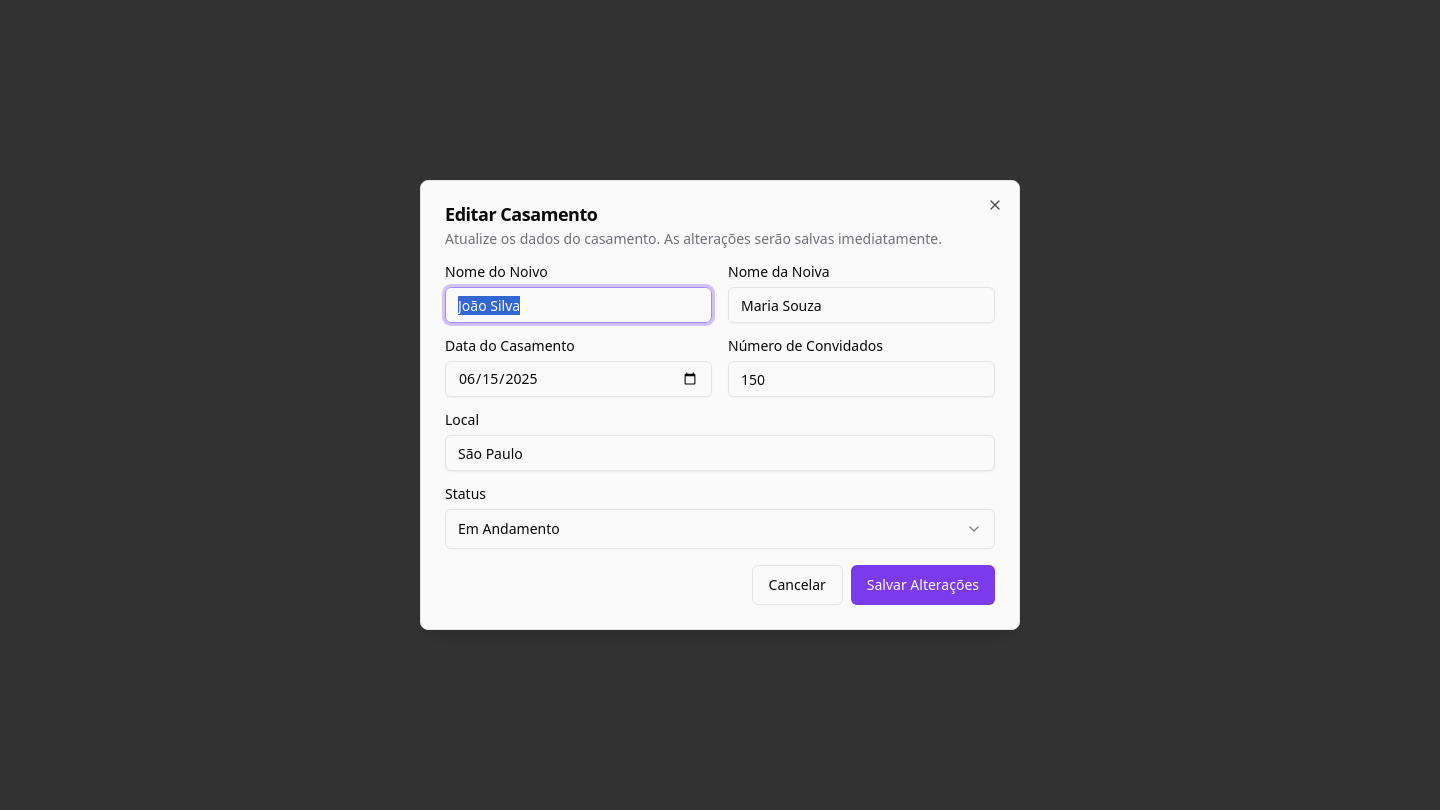
it: EditWeddingDialog › restricts status options strictly to allowed_transitions and current status
The width and height of the screenshot is (1440, 810).
Click the dropdown at (509, 528), box [445, 509, 995, 549]
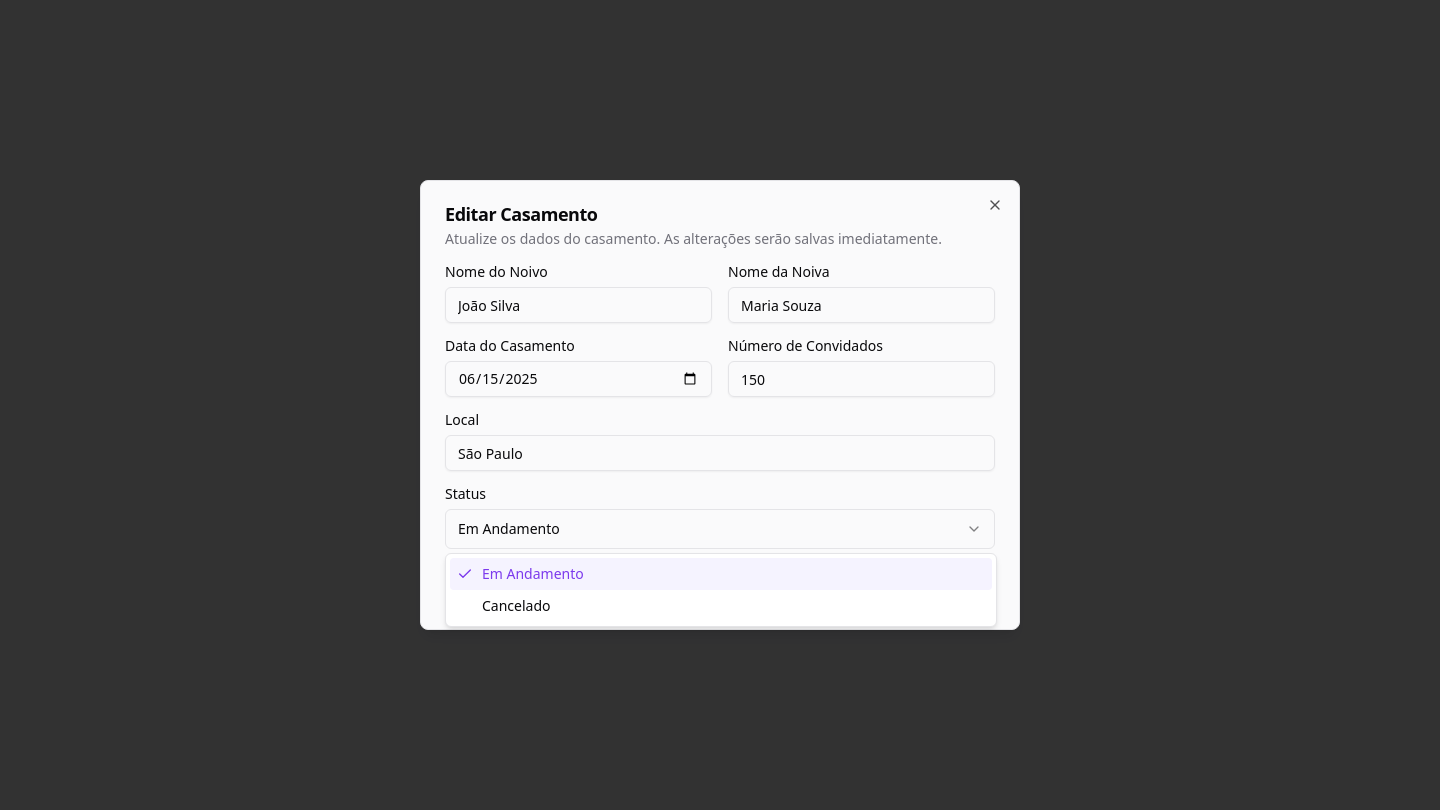
Expected: the option "Em Andamento" is shown, [450, 558, 992, 590]
Expected: the option "Cancelado" is shown, [482, 596, 550, 615]
